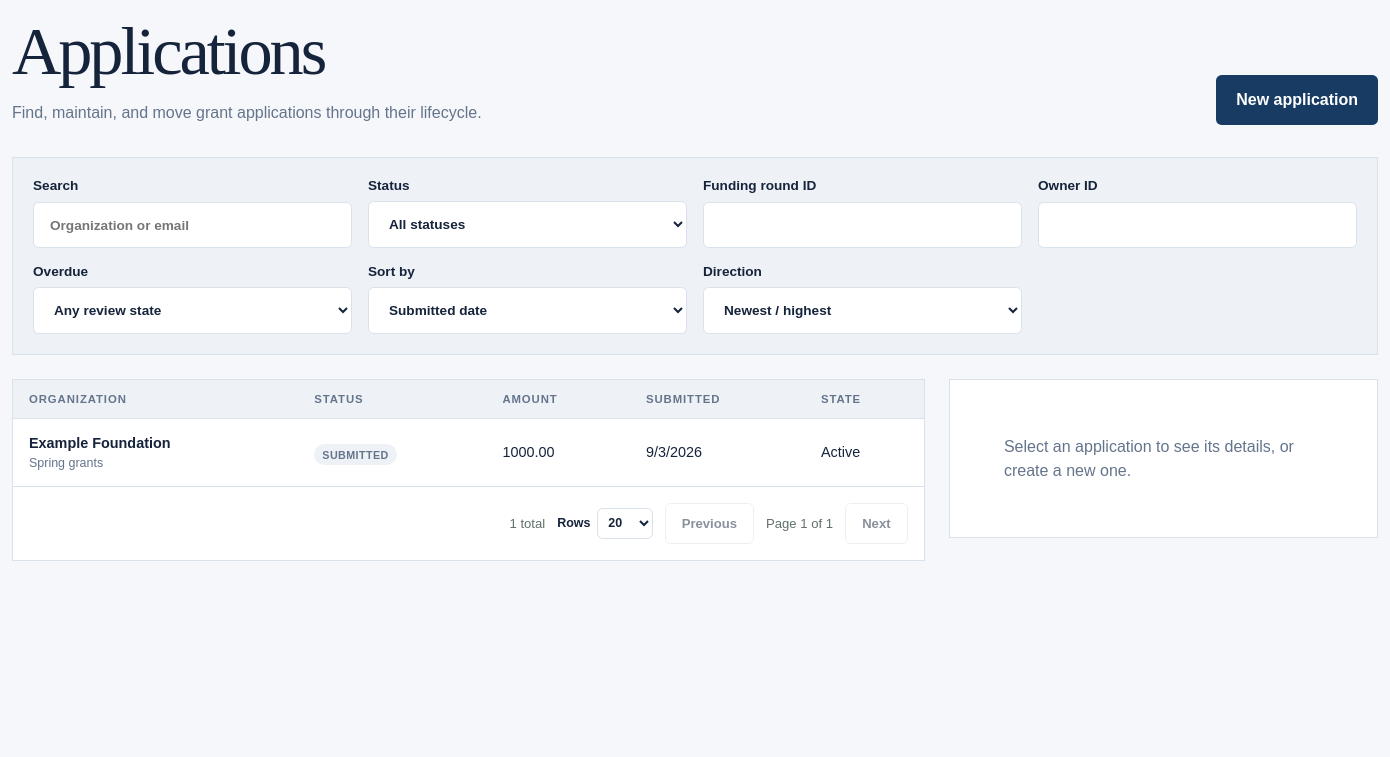
Test: Program Officer assignment management › keeps a successfully removed assignment in visible history without another Remove action
Click the button "Example Foundation": click(100, 443) x1=29 y1=435 x2=170 y2=451
(page scrolled)
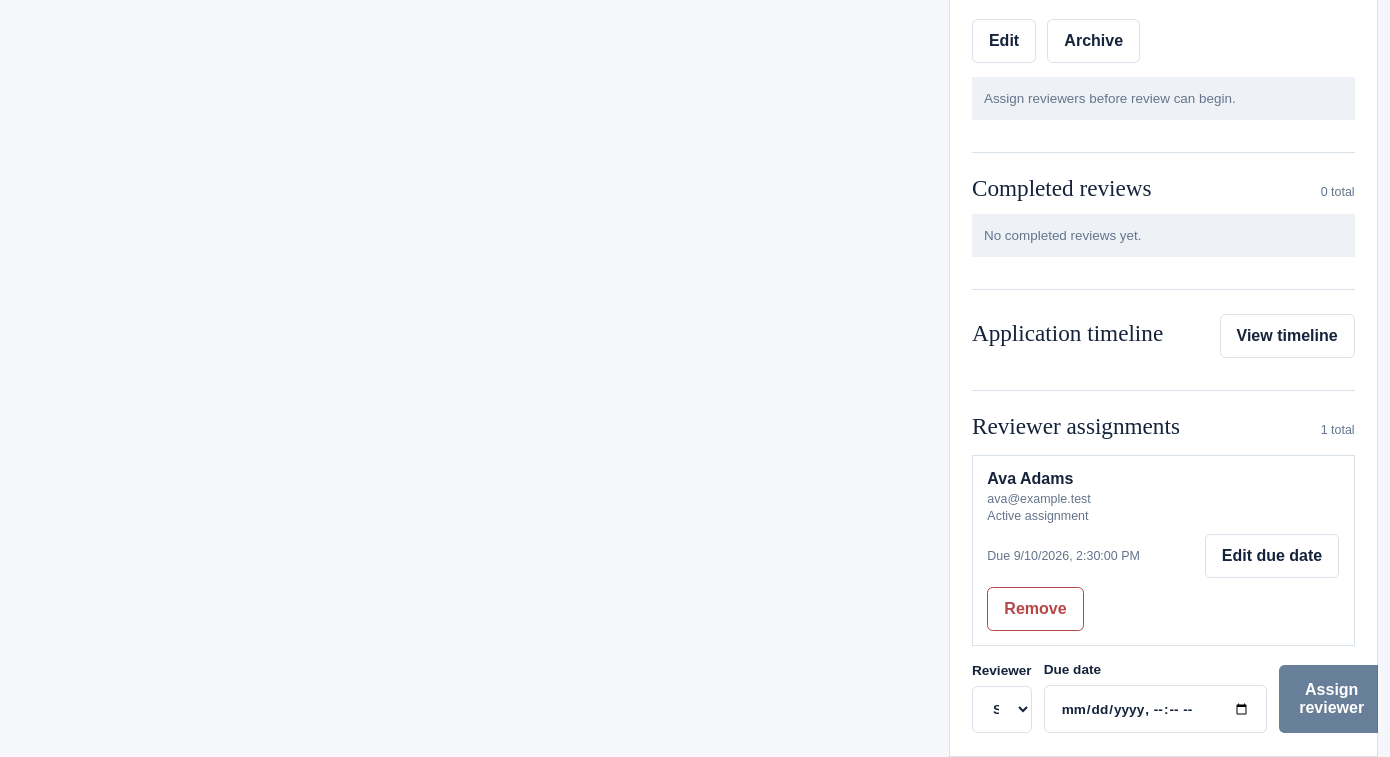
Click the button "Remove": click(1035, 609) x1=987 y1=587 x2=1084 y2=631
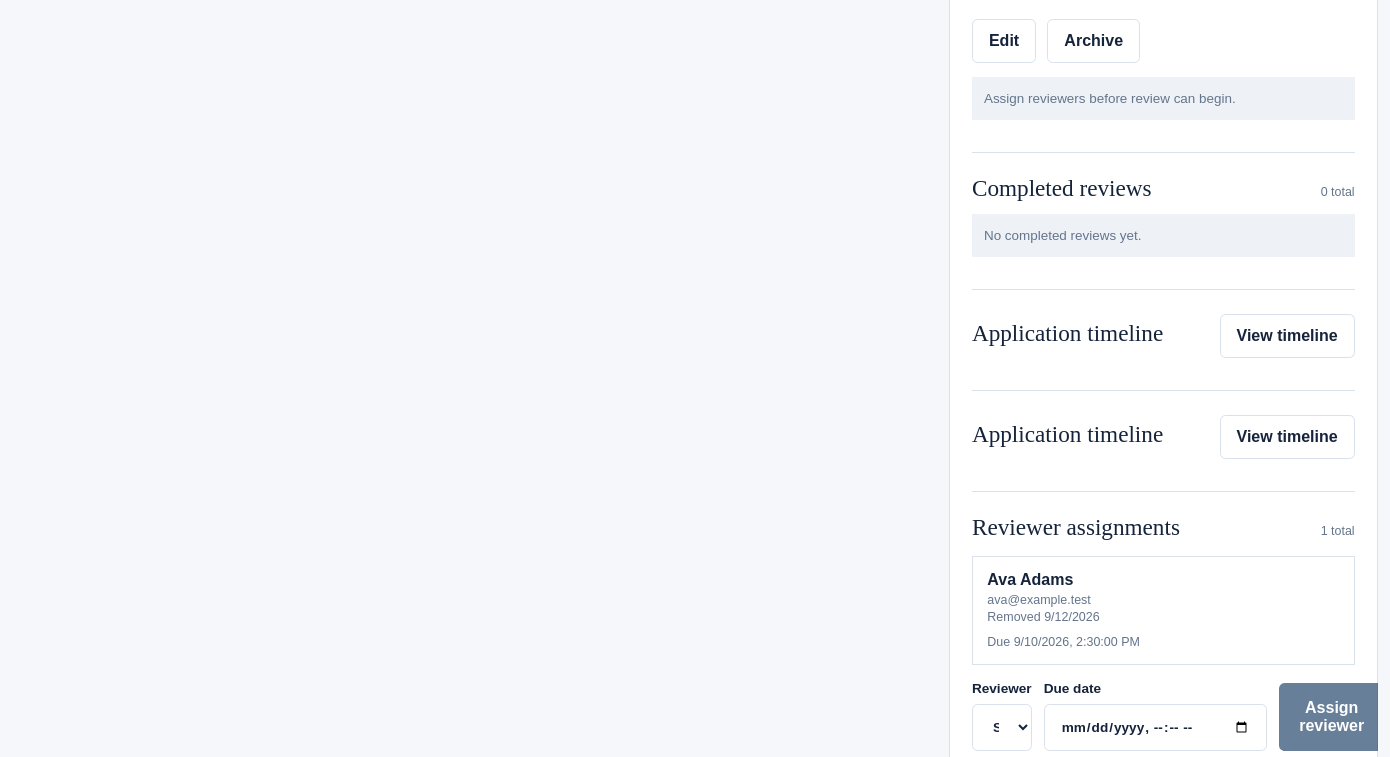
Check: the text "Removed 9/12/2026" is shown, box x1=987 y1=610 x2=1100 y2=624
